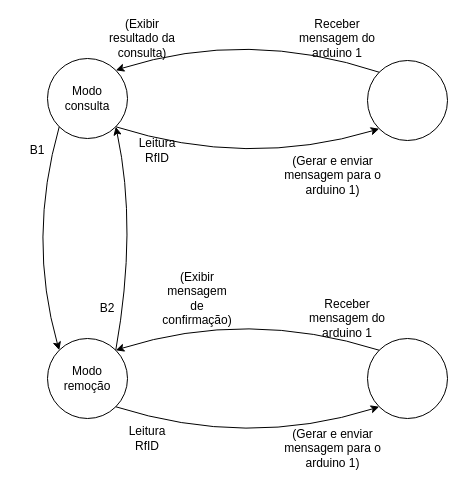
Image size: 465x491. Some labels were removed from this diagram. Here are the shapes that lost their labels. From the top down, the centre of each, then its label:
At (407,100): "Aguardando resposta consulta".
At (407,378): "Aguardando resposta remoção".
